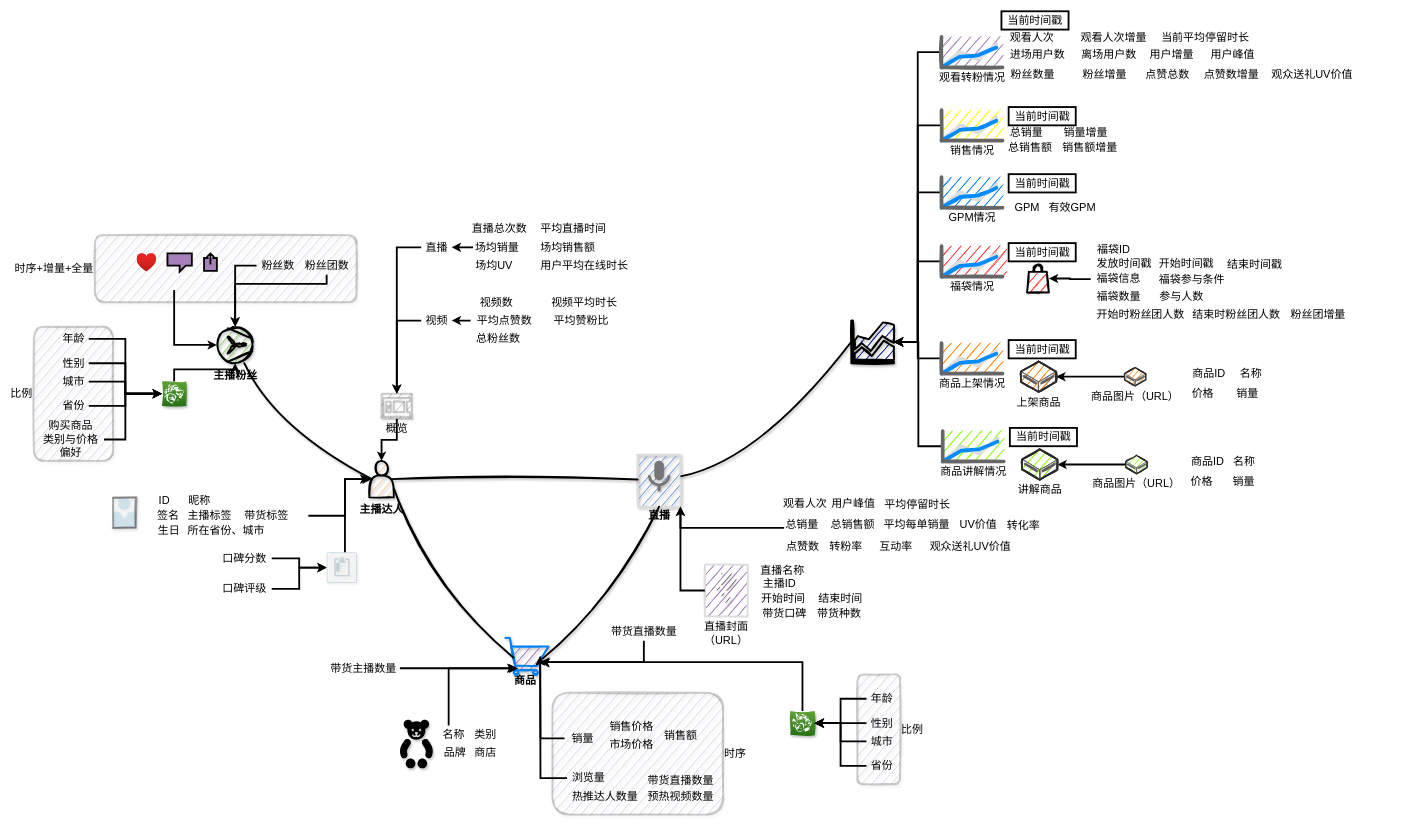
Image size: 1404x830. Some labels were removed from this diagram. Each missing label, with the centre of its shape:
Live: point (659, 481)
分享: point (210, 261)
图片（URL）: point (416, 744)
头像（URL）: point (124, 513)
抖音带货口碑: point (342, 568)
点赞: point (146, 262)
直播 用户画像: point (174, 394)
直播详细数据: point (873, 342)
福袋: point (1038, 278)
粉丝 用户画像: point (803, 723)
评论: point (179, 262)
